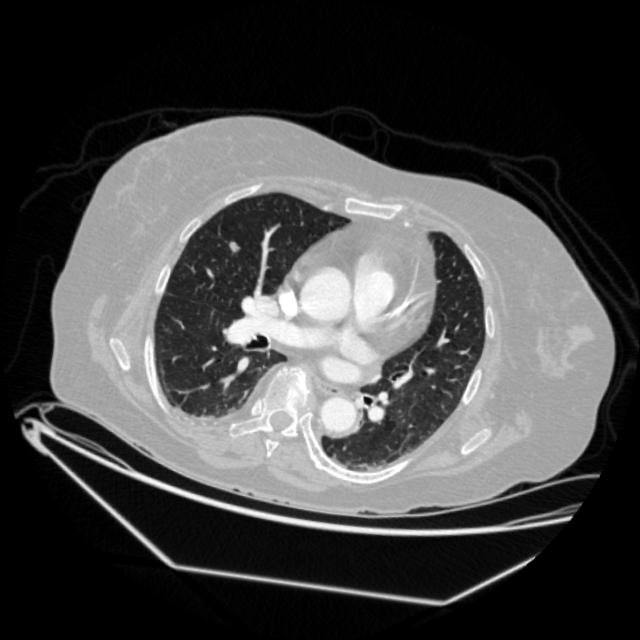nodule: (220, 232, 248, 260)
